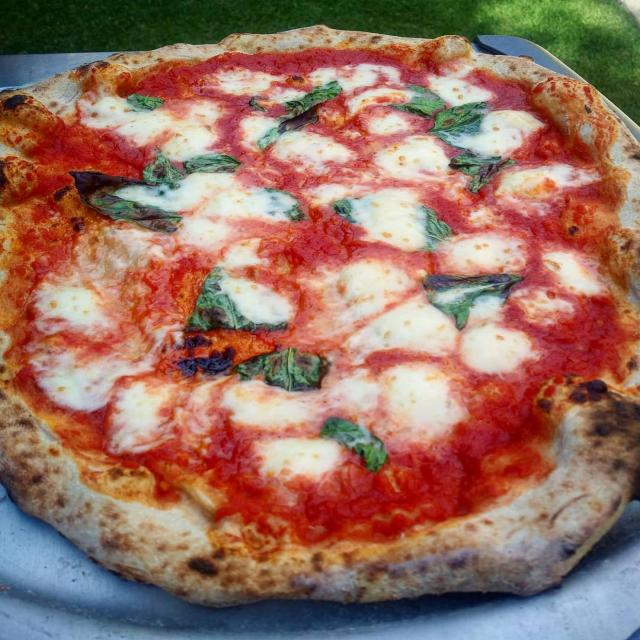basil: (65, 169, 191, 237), (183, 262, 290, 334), (421, 268, 525, 331), (332, 196, 455, 246), (232, 346, 328, 392), (320, 416, 389, 472), (247, 79, 345, 114), (424, 99, 497, 145), (448, 147, 518, 194), (254, 110, 317, 152), (382, 79, 445, 117), (256, 184, 311, 222), (137, 144, 186, 184), (182, 152, 240, 178), (123, 91, 166, 113)
pizza: (0, 22, 640, 615)
